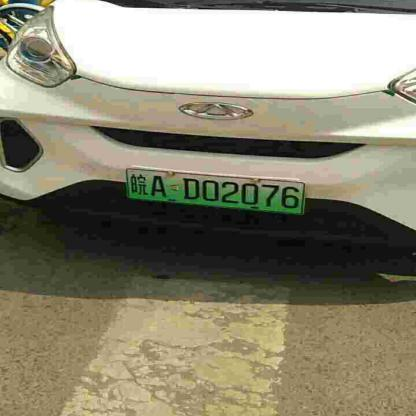lp: (125, 170, 303, 214)
